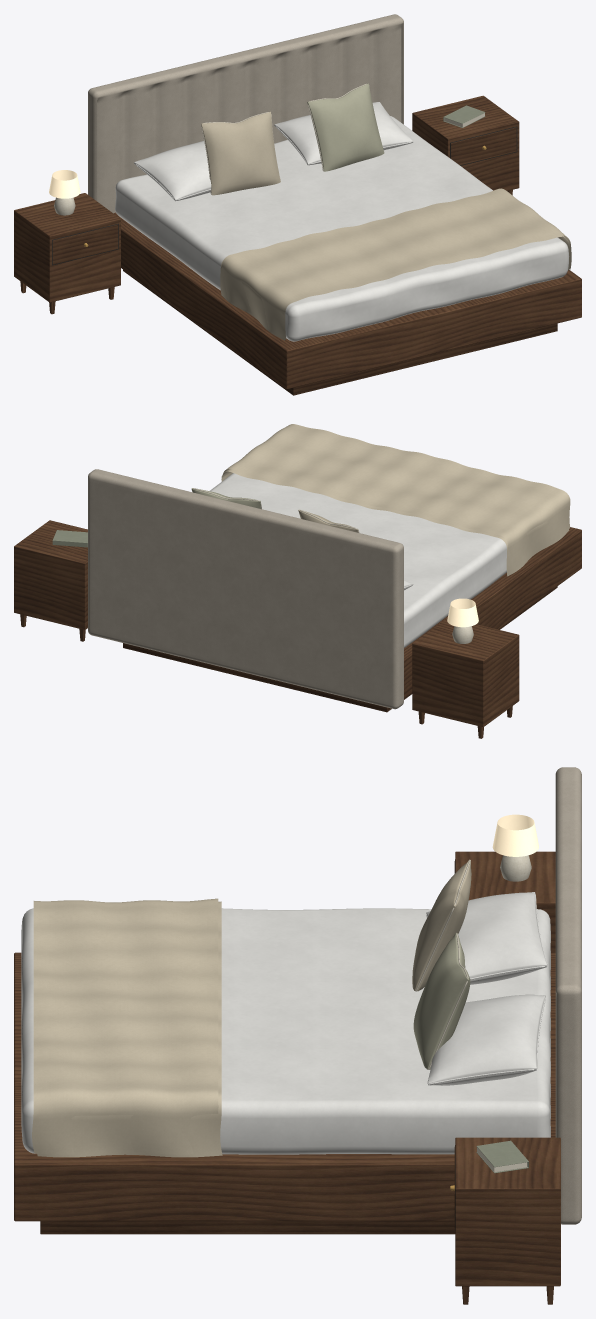
Rendered from noi-that-giuong.glb.
3 views of the same model, one above another, from view 1: azimuth 30°, elevation 25°; view 2: azimuth 150°, elevation 25°; view 3: azimuth 270°, elevation 25° (orthographic). The views are drawn at different scales.
Visible parts, largest first — view 1: Mattress, Headboard, Platform, Throw, Bedside_left, Cushion_1, Bedside_right, Cushion_2, Pillow_1, PlatformPlinth, Pillow_2, Bedside_left_drawer (+3 smaller); view 2: Headboard, Throw, Mattress, Bedside_left, Bedside_right, Platform, PlatformPlinth, LampShade, Book, Cushion_2; view 3: Mattress, Throw, Platform, Bedside_right, Headboard, Pillow_2, Pillow_1, PlatformPlinth, Cushion_2, Bedside_left, Cushion_1, LampShade (+2 smaller).
Boxes of the visible parts, x1,y1,x2,y2 form: Mattress: (115,116,569,341); Headboard: (88,14,403,213); Platform: (113,212,581,389); Throw: (220,188,571,340); Bedside_left: (14,193,120,314); Cushion_1: (201,111,280,195); Bedside_right: (412,95,519,195); Cushion_2: (307,83,384,171); Pillow_1: (134,141,211,201); PlatformPlinth: (123,270,557,395); Pillow_2: (274,102,413,165); Bedside_left_drawer: (52,224,118,264); Headboard: (88,469,403,709); Throw: (221,424,570,576); Mattress: (209,473,506,647); Bedside_left: (412,618,519,738); Bedside_right: (14,520,87,641); Platform: (404,527,581,698); PlatformPlinth: (123,586,557,712); LampShade: (447,598,478,627); Book: (52,530,87,547); Cushion_2: (191,488,261,509); Mattress: (21,908,550,1154); Throw: (32,898,222,1157); Platform: (14,952,555,1221); Bedside_right: (455,1137,560,1304); Headboard: (555,767,581,1224); Pillow_2: (427,994,545,1085); Pillow_1: (426,892,547,984); PlatformPlinth: (40,1221,455,1234); Cushion_2: (413,933,470,1069); Bedside_left: (455,851,555,952); Cushion_1: (412,859,471,991); LampShade: (492,814,538,856).
Bounding box in the file's own units: 3.02 × 1.1 × 2.15.
11 materials, 11 textured.
